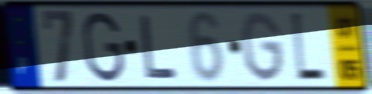6: (187, 8, 227, 87)
7: (39, 7, 77, 87)
G: (239, 9, 286, 85), (80, 9, 126, 84)
L: (288, 9, 329, 86), (138, 13, 180, 81)
